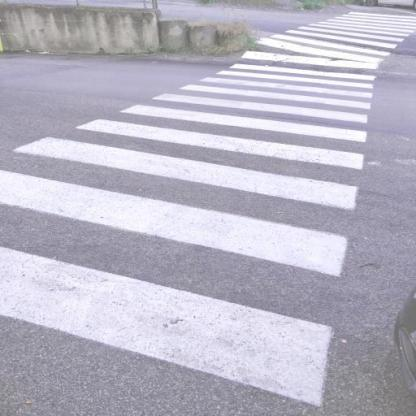crosswalk: (8, 108, 375, 215), (191, 68, 381, 101)
